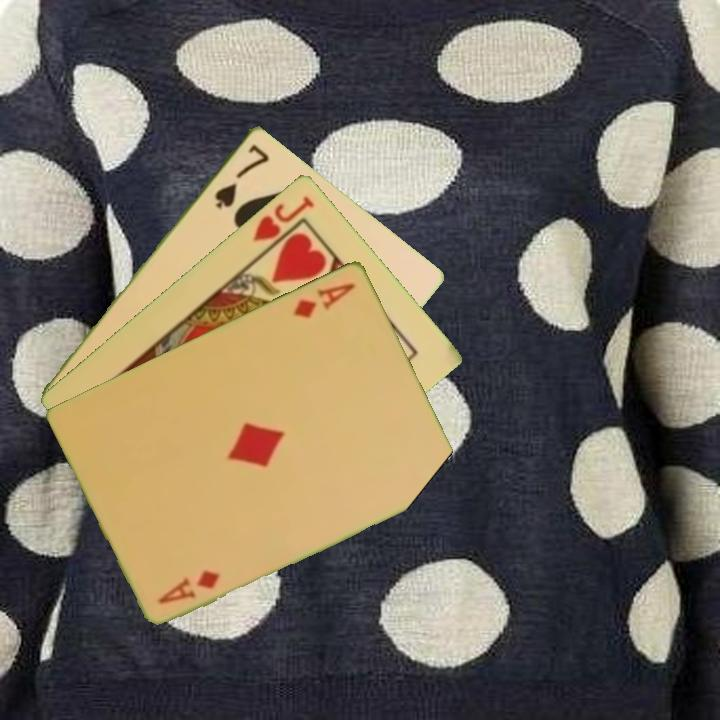7s: (211, 139, 272, 211)
Ad: (289, 278, 359, 321), (154, 565, 223, 607)
Jh: (249, 191, 317, 244)
